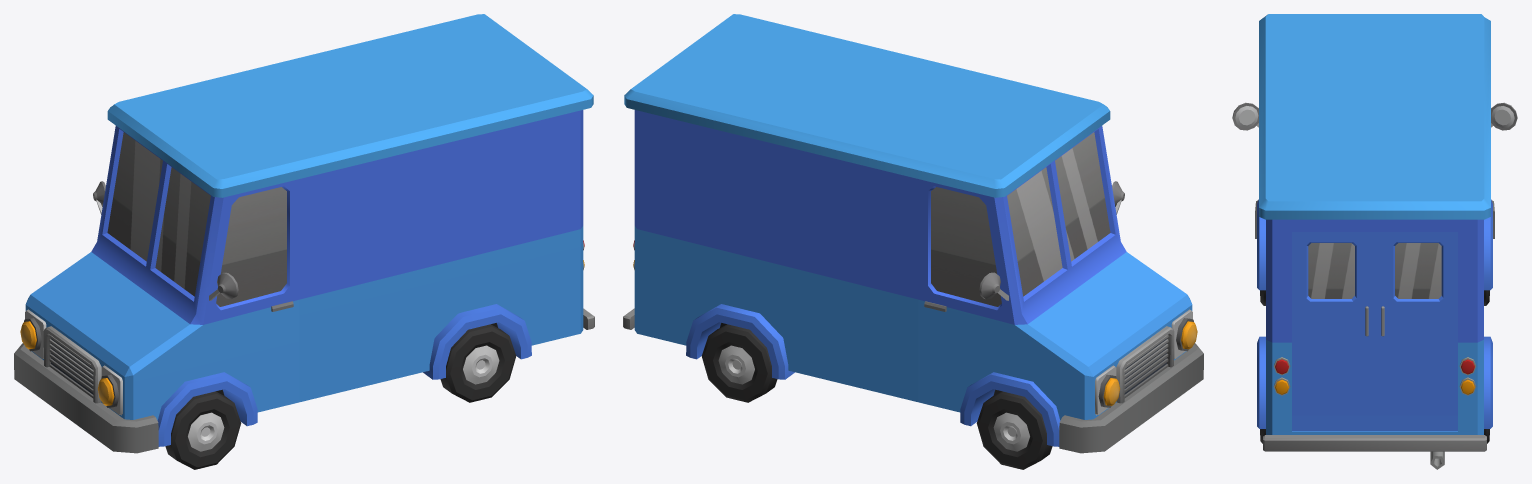
File: Car_16_L.gltf
3 views of the same model, side by side, from view 1: azimuth 30°, elevation 25°; view 2: azimuth 150°, elevation 25°; view 3: azimuth 270°, elevation 25° (orthographic). The views are drawn at different scales.
Parts seen in each view (by area): view 1: Car_16_L, RL, FL; view 2: Car_16_L, RR, FR; view 3: Car_16_L.
Part boxes in pixels (x1=…): Car_16_L: x1=14, y1=14, x2=594, y2=453; RL: x1=440, y1=324, x2=516, y2=402; FL: x1=165, y1=391, x2=241, y2=469; Car_16_L: x1=623, y1=14, x2=1203, y2=453; RR: x1=701, y1=324, x2=777, y2=402; FR: x1=976, y1=391, x2=1052, y2=469; Car_16_L: x1=1232, y1=14, x2=1517, y2=469.
Bounding box in the file's own units: 3.66 × 2.04 × 1.8.
Materials: 4 (4 with a texture image).
